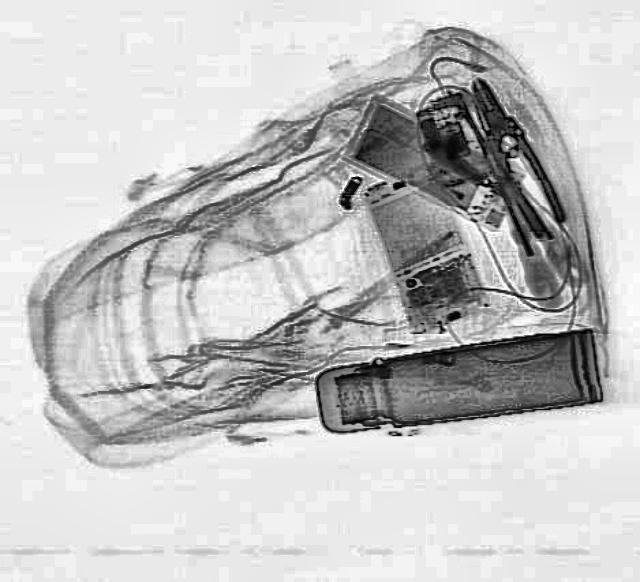Pliers: (454, 68, 572, 238)
